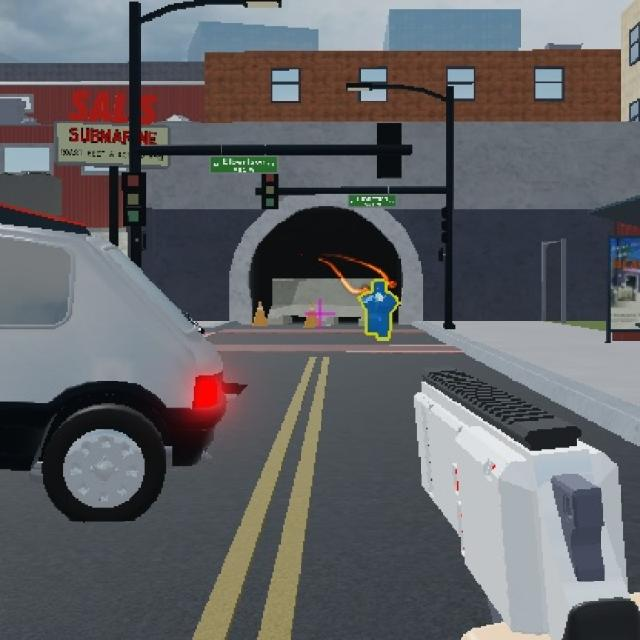player: (358, 273, 402, 343)
